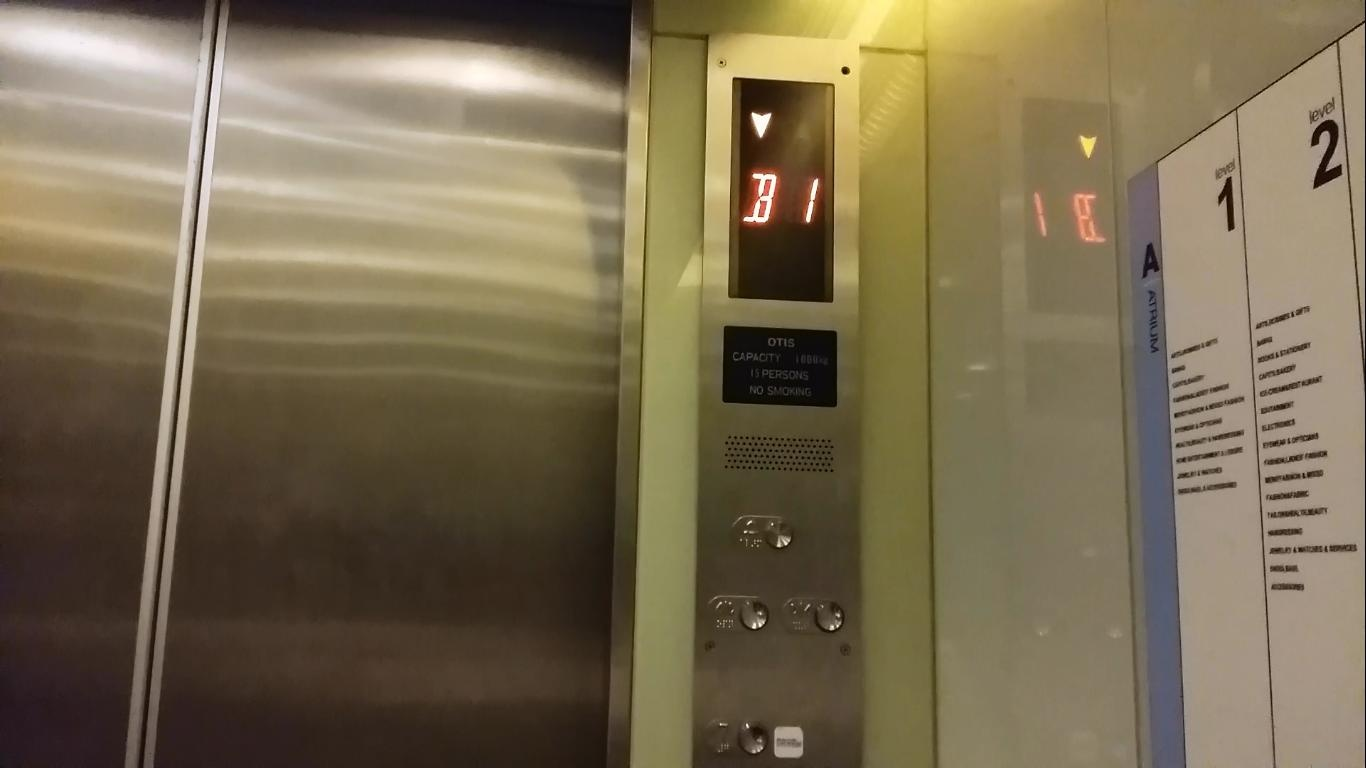7: (702, 718, 769, 757)
alarm: (728, 512, 798, 556)
close: (780, 596, 846, 635)
led: (723, 67, 852, 310), (1023, 96, 1133, 333)
open: (706, 593, 771, 634)
